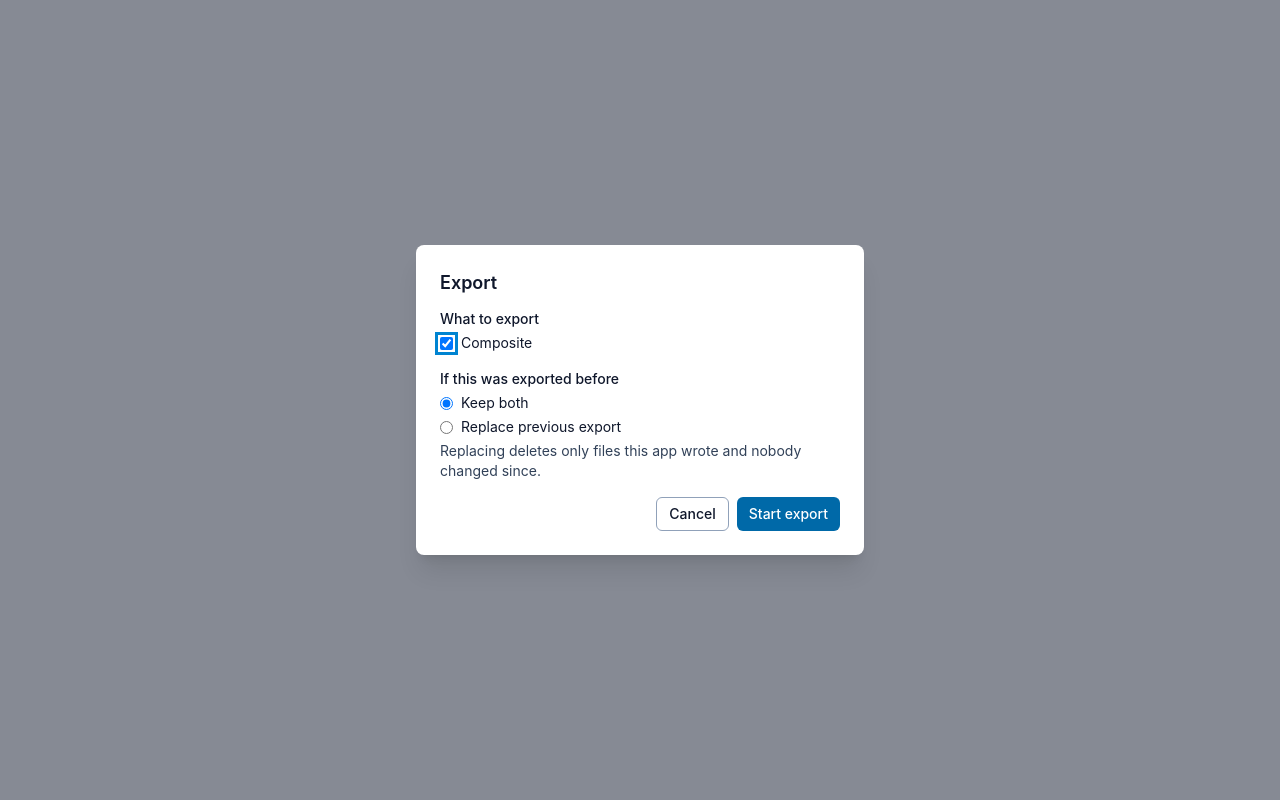
ExportDialog › explains the learning line when the model is not downloaded
The image size is (1280, 800).
Click the button "Start export" at (788, 514), box [737,497,840,531]
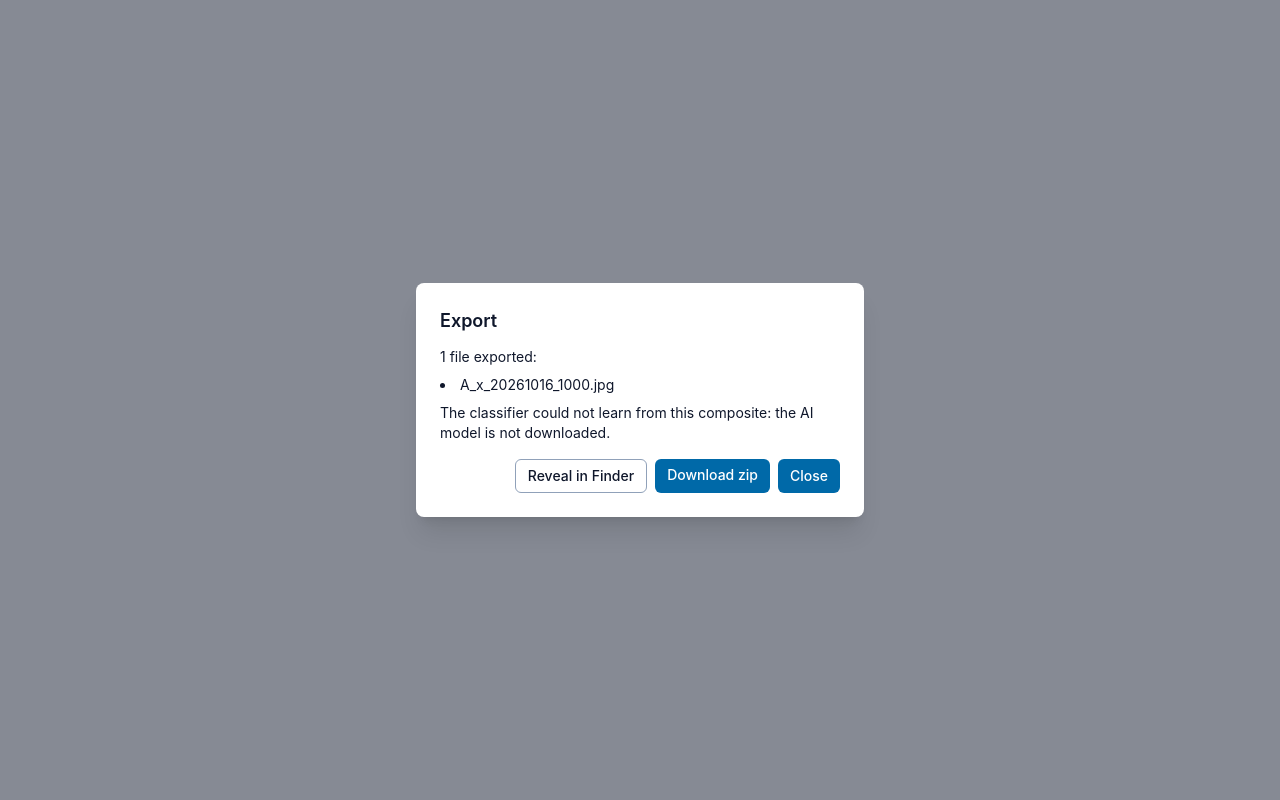
Result: the text "The classifier could not learn from this composite: the AI model is not downloaded." is shown at [440,404,814,441]
